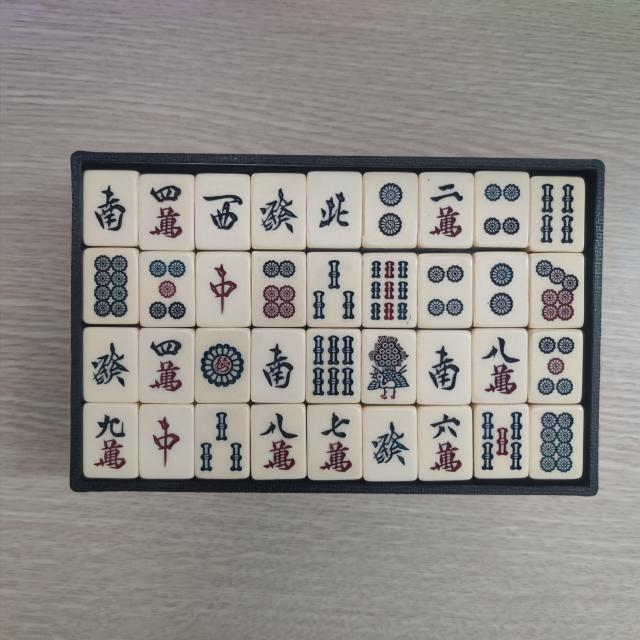hdg: (367, 413, 413, 478), (256, 179, 302, 244), (88, 332, 134, 397)
hdr: (200, 256, 246, 322), (146, 408, 189, 474)
hwn: (316, 178, 360, 243)
hws: (256, 333, 302, 398), (423, 334, 467, 400), (89, 174, 133, 239)
hww: (200, 180, 246, 244)
sb1: (366, 332, 414, 400)
sb3: (312, 258, 359, 326), (199, 408, 246, 476)
sb4: (536, 181, 579, 248)
sb5: (478, 408, 524, 474)
sb6: (311, 332, 358, 398)
sb9: (367, 258, 412, 324)
sc2: (425, 178, 470, 243)
sc4: (142, 180, 188, 246), (144, 334, 188, 400)
sc6: (424, 412, 468, 478)
sc7: (314, 409, 358, 476)
sc8: (477, 333, 524, 400), (256, 408, 302, 474)
sc9: (89, 408, 133, 473)
sd1: (198, 333, 246, 399)
sd2: (479, 256, 524, 324), (370, 177, 412, 244)
sd4: (424, 258, 469, 323), (480, 178, 524, 242)
sd5: (148, 256, 193, 321), (535, 333, 578, 398)
sd6: (257, 256, 302, 322)
sd7: (534, 258, 580, 324)
sd8: (89, 254, 133, 322), (536, 410, 579, 476)
